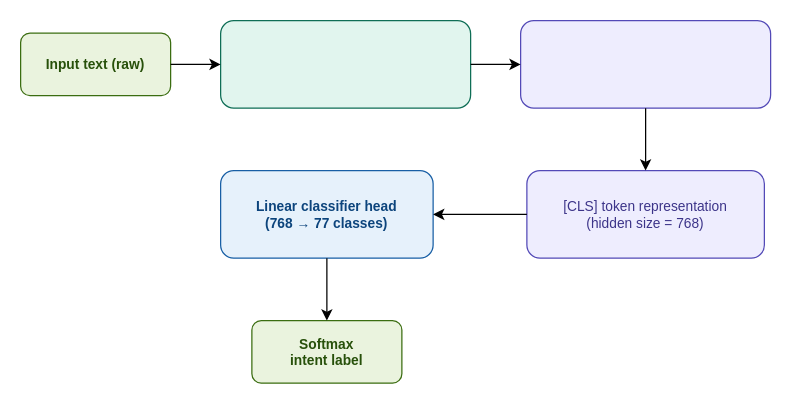
Image size: 791x404. Some labels were removed from this diagram. The shapes that lost their labels are listed below. From the top down, each one's box as (x1, y1, x2, y2) in pixels, then its label:
(219, 19, 471, 108): WordPiece tokenizer (distilbert-base-uncased, max=64)
(519, 19, 771, 108): DistilBERT encoder 6 transformer layers (fine-tuned)
